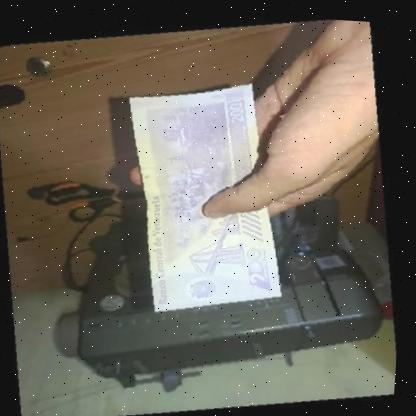two_hundred-back-vef: (119, 72, 296, 318)
